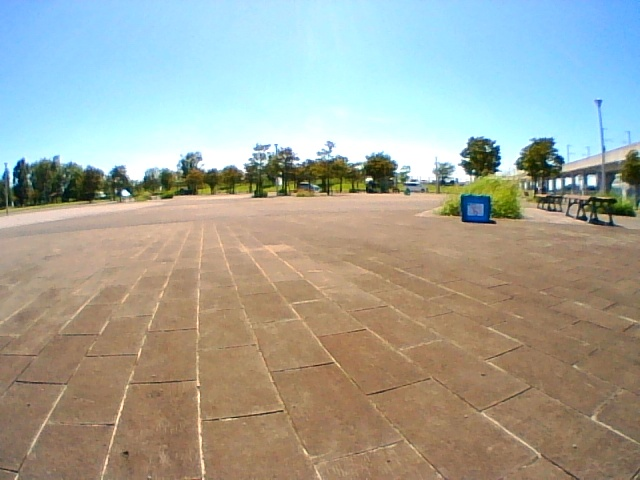blue_box: (462, 195, 490, 222)
tag: (467, 203, 484, 215)
